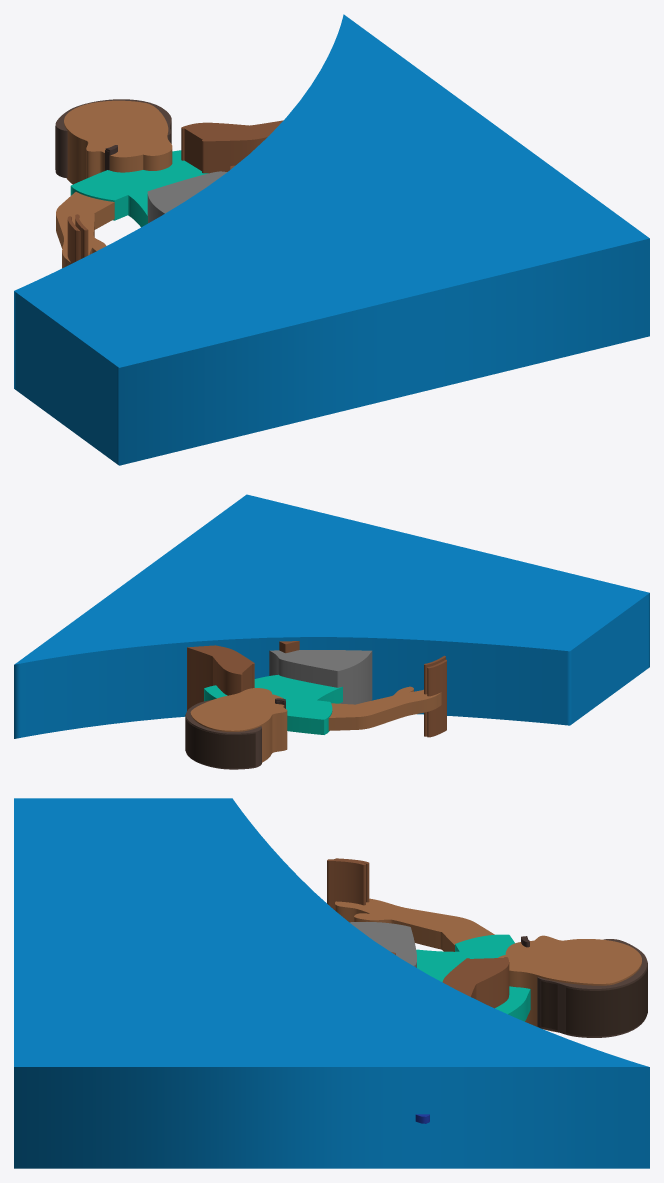
The model's file is emoji_u1f3c4_1f3fe_200d_2642.glb.
The picture shows the model from 3 angles, top to bottom: view 1: azimuth 30°, elevation 25°; view 2: azimuth 150°, elevation 25°; view 3: azimuth 270°, elevation 25°; orthographic projection. The views are drawn at different scales.
Parts seen in each view (by area): view 1: emoji_u1f3c4_1f3fe_200d_2642; view 2: emoji_u1f3c4_1f3fe_200d_2642; view 3: emoji_u1f3c4_1f3fe_200d_2642.
Part boxes in pixels (x1,y1,x2,y2): emoji_u1f3c4_1f3fe_200d_2642: [14, 14, 649, 465]; emoji_u1f3c4_1f3fe_200d_2642: [14, 494, 649, 769]; emoji_u1f3c4_1f3fe_200d_2642: [14, 798, 649, 1168].
Bounding box in the file's own units: 0.0332 × 0.0058 × 0.0329.
